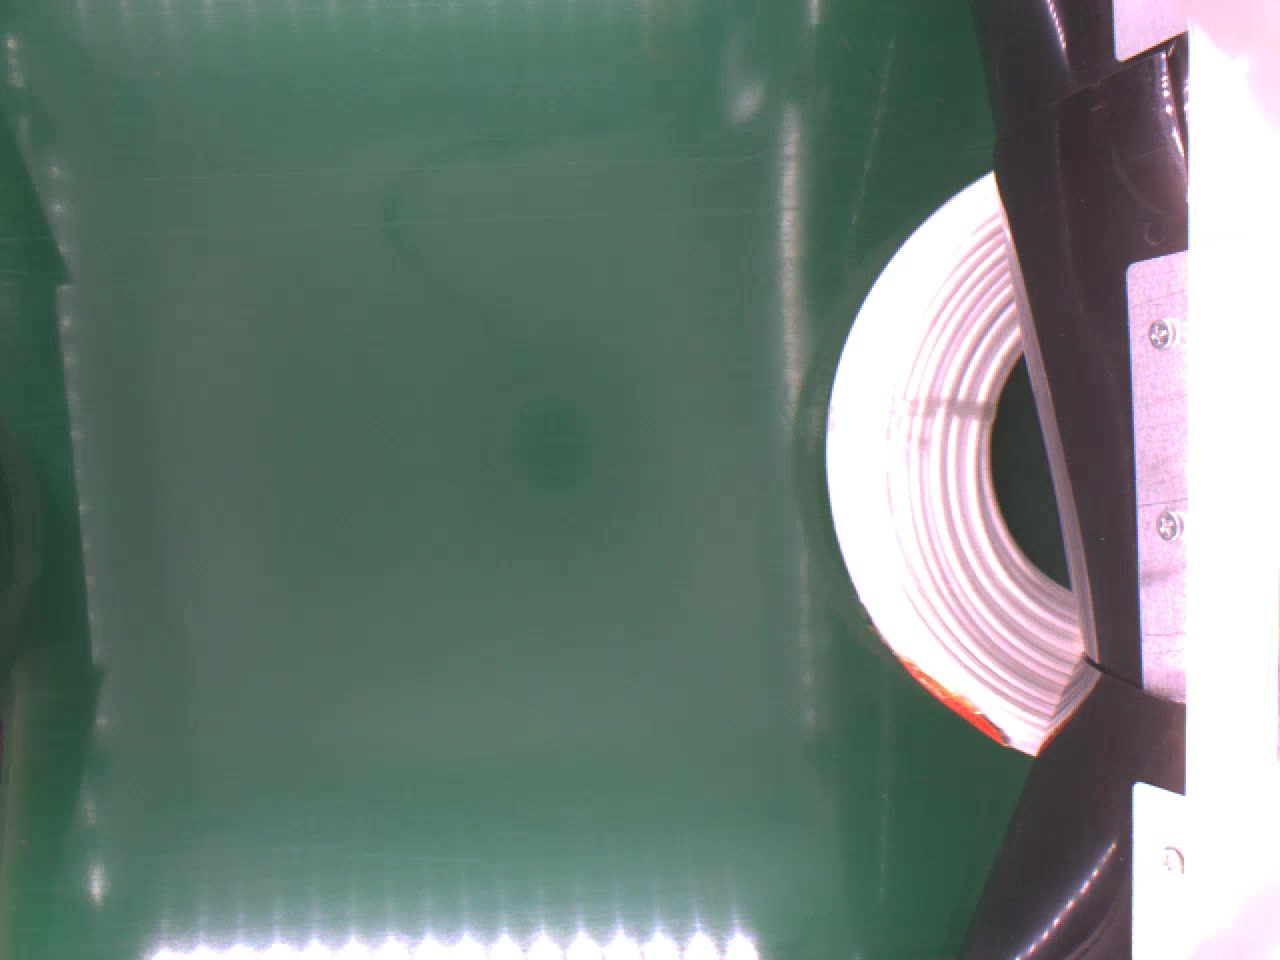white: (823, 169, 1089, 760)
